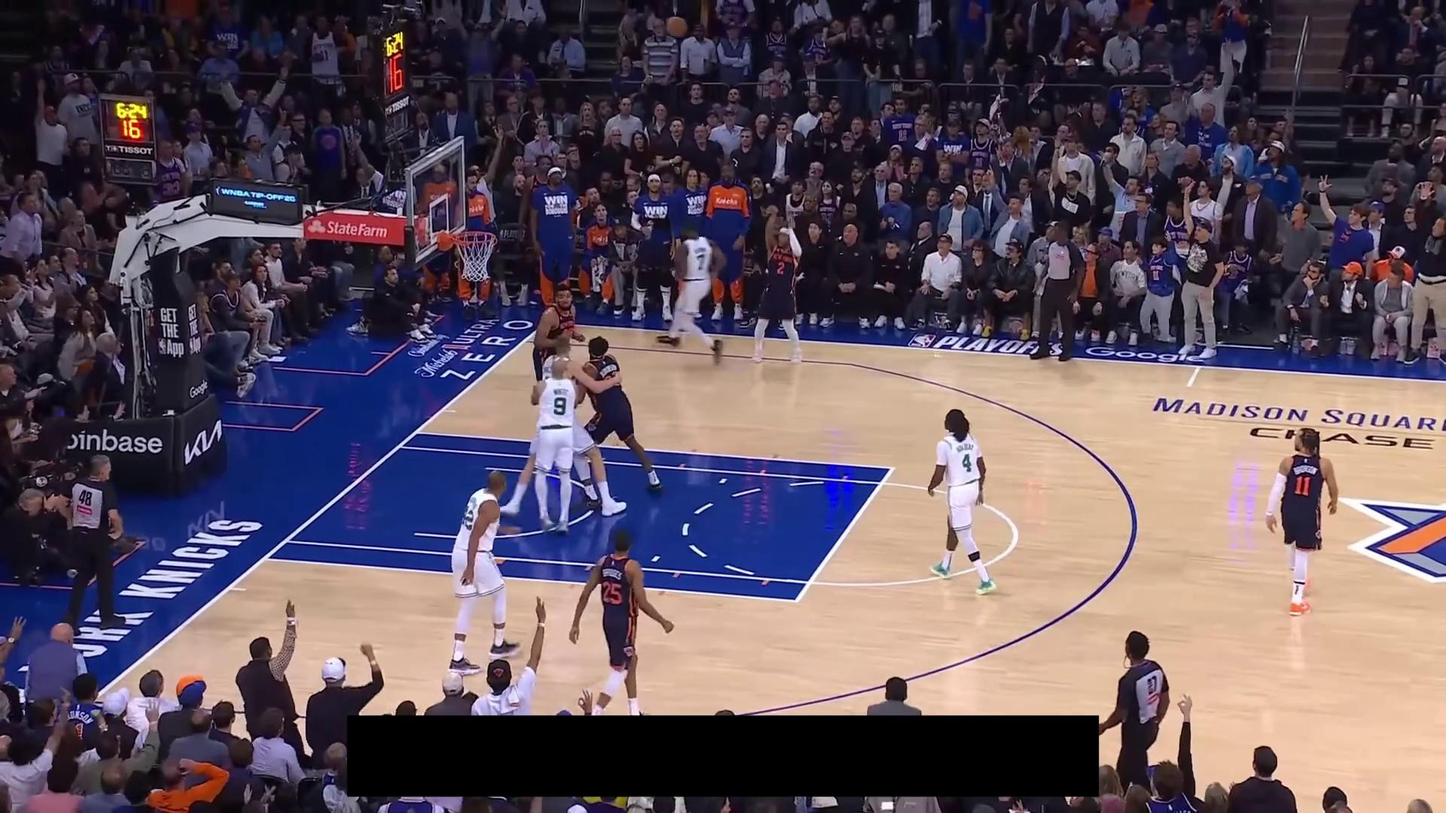ball: (665, 15, 688, 38)
number: (601, 580, 622, 605), (1294, 475, 1312, 497), (462, 506, 475, 530), (554, 396, 568, 416), (961, 452, 973, 473), (697, 253, 706, 271), (776, 260, 785, 276)
player: (498, 335, 623, 517), (568, 528, 676, 716), (443, 467, 523, 678), (572, 335, 665, 511), (1264, 425, 1339, 618), (926, 407, 998, 596), (654, 219, 727, 365), (745, 202, 805, 364), (531, 359, 579, 537), (528, 285, 586, 400)
referee: (57, 452, 127, 638), (1100, 630, 1170, 798), (1027, 220, 1088, 363)
rim: (452, 229, 497, 245)
